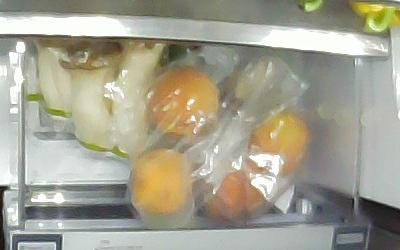peach_vinyl: (199, 149, 274, 220), (149, 69, 219, 137), (130, 150, 192, 217), (247, 109, 311, 172)
